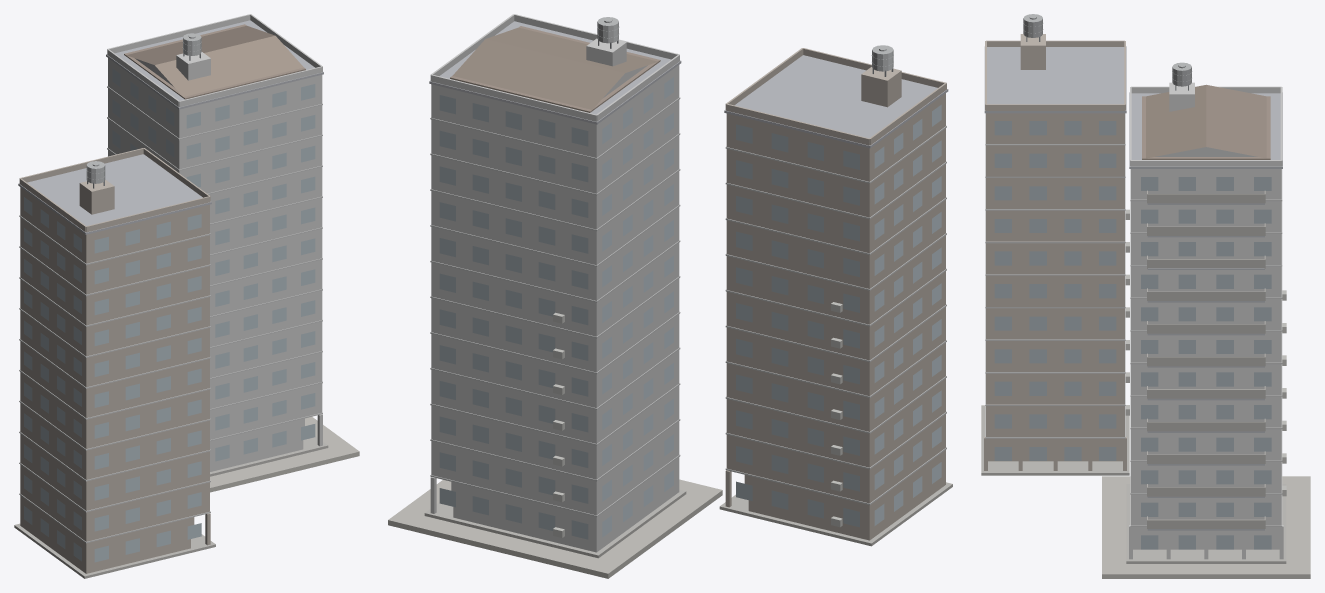
The model's file is 09_residential_high-05.glb.
3 renders of one model, left to right at view 1: azimuth 30°, elevation 25°; view 2: azimuth 150°, elevation 25°; view 3: azimuth 270°, elevation 25°, orthographic. The views are drawn at different scales.
Size of the model in its own units: 34.9 by 42.52 by 28.4.
